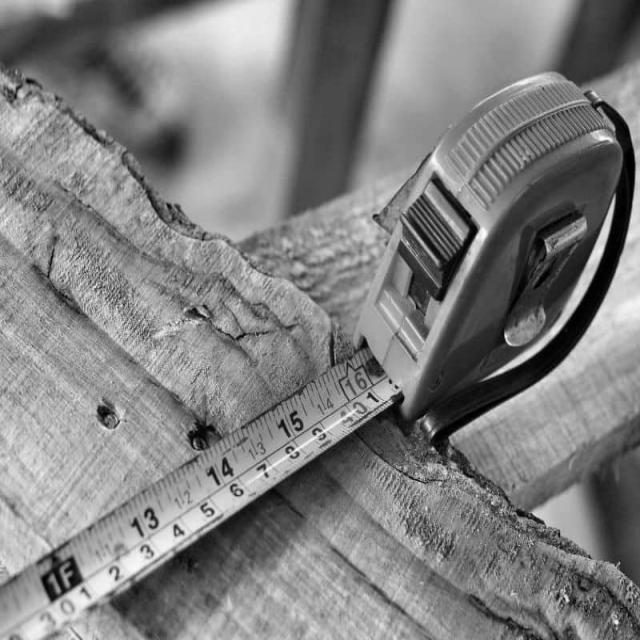measuring_tape: (274, 51, 640, 528)
